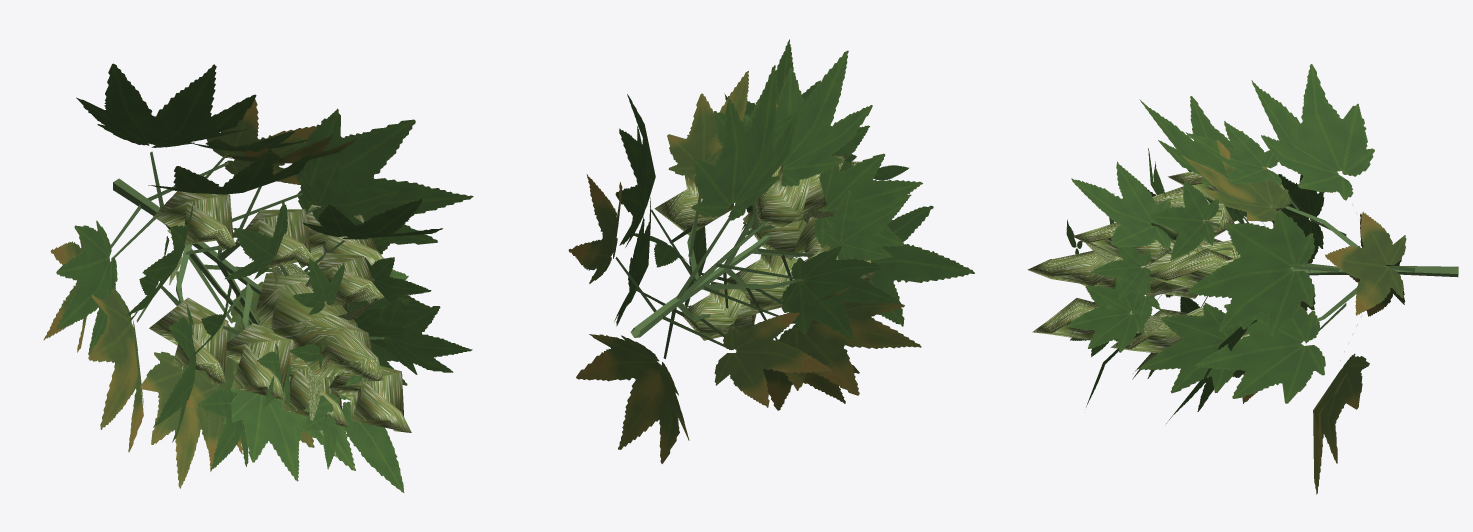
File: p_kush_ripe_c0_cards.obj
The picture shows the model from 3 angles, left to right: view 1: azimuth 30°, elevation 25°; view 2: azimuth 150°, elevation 25°; view 3: azimuth 270°, elevation 25°; orthographic projection. The views are drawn at different scales.
Bounding box in the file's own units: 1.27 × 1.51 × 1.34.
1 material, 1 textured.
